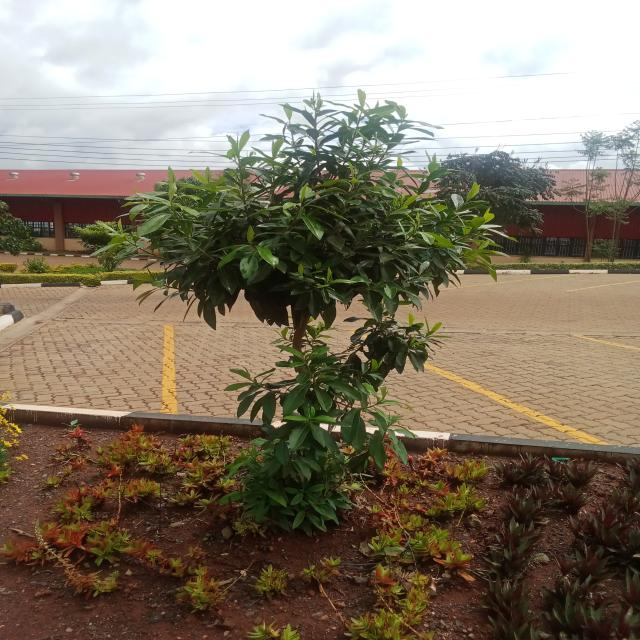Syzygium guinesis: (141, 79, 507, 570)
